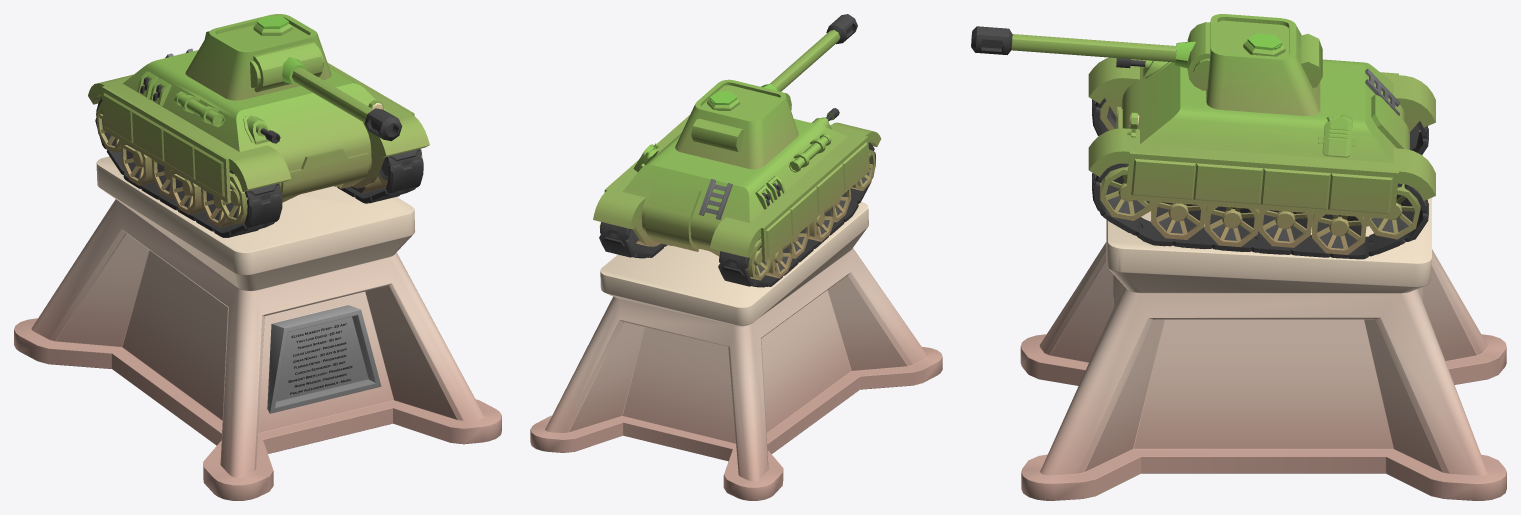
Rendered from tank.glb.
The picture shows the model from 3 angles, left to right: view 1: azimuth 30°, elevation 25°; view 2: azimuth 150°, elevation 25°; view 3: azimuth 270°, elevation 25°; orthographic projection. The views are drawn at different scales.
Parts seen in each view (by area): view 1: Standbild, Tank, Plane.080, Plane.077, Box.511, Plane.078, Plane.084, Cylinder.006, Cylinder.004, TEXT, Cylinder.007, Cylinder.009 (+5 smaller); view 2: Standbild, Tank, Box.511, Plane.077, Plane.080, Plane.078, Plane.085, Cylinder.006, Cylinder.013, Cylinder.011, Plane.082, Cylinder.012 (+2 smaller); view 3: Standbild, Tank, Plane.080, Box.511, Plane.077, Plane.078, Cylinder.006, Cylinder.007, Cylinder.009, Cylinder.012, Cylinder.010, Cylinder.008 (+5 smaller).
Part boxes in pixels (x1,y1,x2,y2): Standbild: [14, 156, 501, 500]; Tank: [123, 50, 387, 191]; Plane.080: [101, 63, 414, 203]; Plane.077: [88, 66, 429, 191]; Box.511: [185, 14, 331, 100]; Plane.078: [95, 98, 423, 237]; Plane.084: [280, 148, 368, 202]; Cylinder.006: [292, 67, 402, 141]; Cylinder.004: [250, 41, 323, 92]; TEXT: [288, 323, 352, 394]; Cylinder.007: [219, 149, 422, 224]; Cylinder.009: [170, 170, 204, 214]; Standbild: [530, 202, 942, 500]; Tank: [622, 119, 848, 256]; Box.511: [675, 79, 798, 169]; Plane.077: [593, 120, 881, 257]; Plane.080: [604, 115, 869, 262]; Plane.078: [599, 142, 875, 287]; Plane.085: [645, 174, 701, 251]; Cylinder.006: [770, 14, 857, 91]; Cylinder.013: [691, 118, 744, 151]; Cylinder.011: [599, 222, 772, 280]; Plane.082: [699, 179, 732, 219]; Cylinder.012: [636, 239, 793, 278]; Standbild: [1020, 197, 1506, 500]; Tank: [1121, 59, 1404, 162]; Plane.080: [1125, 72, 1398, 219]; Box.511: [1206, 14, 1320, 115]; Plane.077: [1088, 57, 1435, 200]; Plane.078: [1092, 98, 1428, 259]; Cylinder.006: [971, 26, 1176, 62]; Cylinder.007: [1100, 101, 1154, 220]; Cylinder.009: [1204, 205, 1259, 247]; Cylinder.012: [1312, 213, 1366, 254]; Cylinder.010: [1258, 209, 1312, 247]; Cylinder.008: [1151, 201, 1205, 239].
Size of the model in its own units: 2.38 by 2.97 by 3.61.
Materials: 3 (3 with a texture image).
